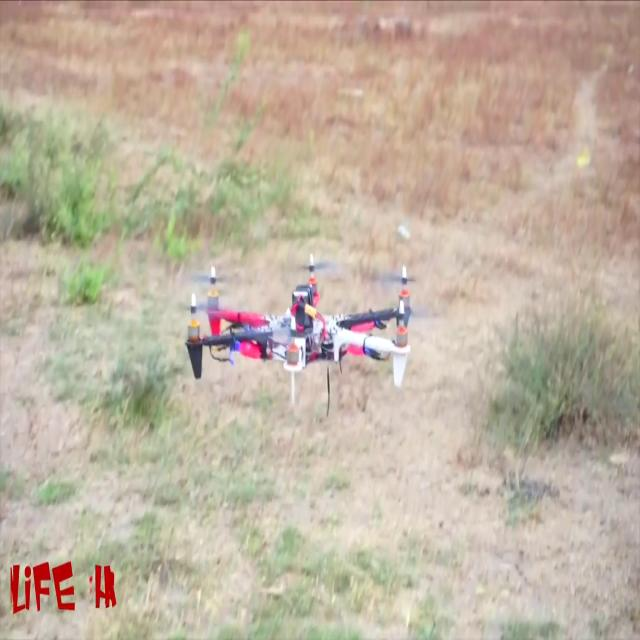drone: (176, 253, 437, 409)
